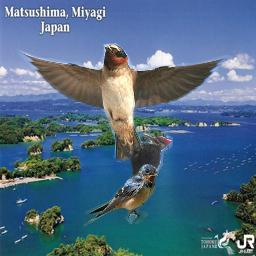Swallow: (15, 43, 228, 162), (84, 164, 159, 227)
Woodpecker: (122, 133, 173, 205)
